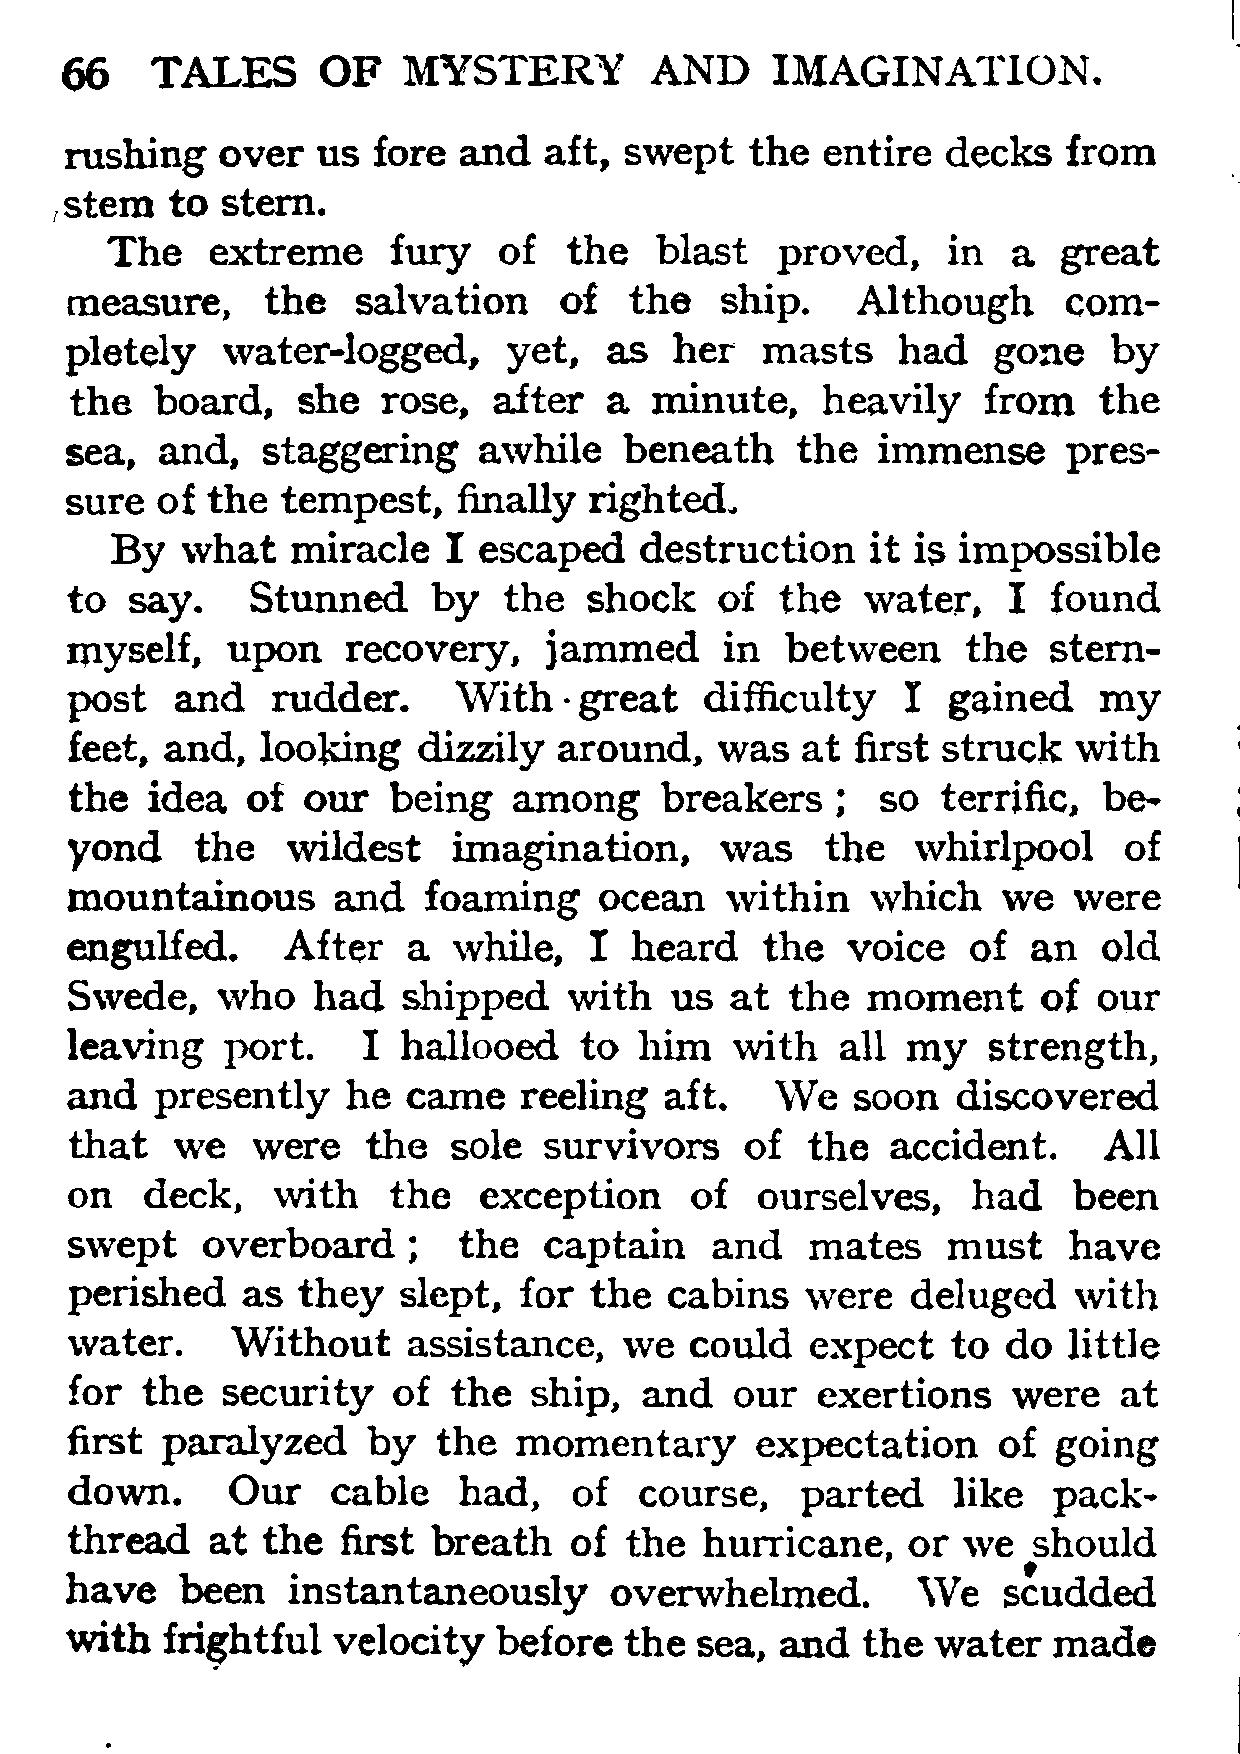content: (58, 129, 1174, 1679)
content_chapter: (149, 50, 1100, 89)
content_pagenumber: (46, 46, 123, 98)
